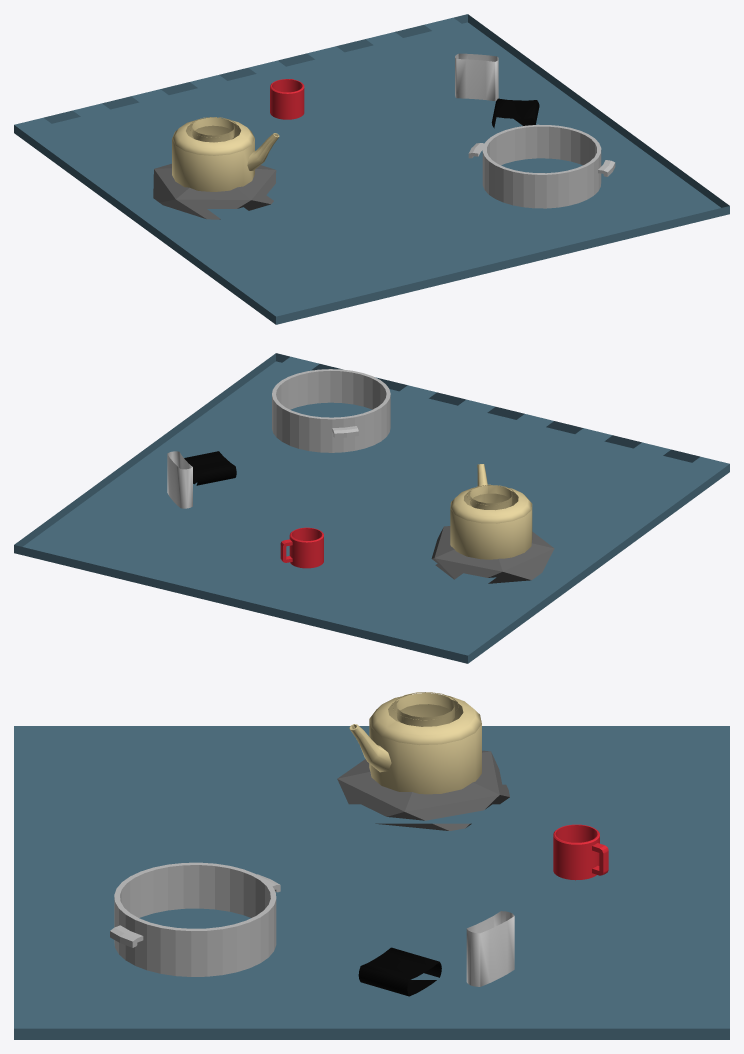
File: picnic_scene.glb
3 views of the same model, one above another, from view 1: azimuth 30°, elevation 25°; view 2: azimuth 150°, elevation 25°; view 3: azimuth 270°, elevation 25° (orthographic). The views are drawn at different scales.
Visible parts, largest first — view 1: Object_26, Object_37, Object_52, Object_108, Object_50, Object_29, Object_44; view 2: Object_26, Object_37, Object_52, Object_108, Object_29, Object_50, Object_44; view 3: Object_26, Object_37, Object_52, Object_108, Object_50, Object_29, Object_44.
Boxes of the visible parts, box(x1,y1,x2,y2) form: Object_26: box(14, 14, 729, 324); Object_37: box(468, 124, 615, 208); Object_52: box(172, 117, 279, 191); Object_108: box(153, 163, 276, 219); Object_50: box(455, 53, 498, 100); Object_29: box(270, 79, 304, 119); Object_44: box(491, 98, 539, 128); Object_26: box(14, 353, 729, 663); Object_37: box(272, 369, 390, 452); Object_52: box(450, 464, 532, 559); Object_108: box(431, 526, 554, 583); Object_29: box(280, 527, 323, 568); Object_50: box(167, 451, 192, 508); Object_44: box(184, 451, 236, 485); Object_26: box(14, 726, 729, 1039); Object_37: box(110, 862, 280, 976); Object_52: box(349, 692, 481, 794); Object_108: box(337, 750, 509, 830); Object_50: box(466, 911, 514, 986); Object_29: box(553, 824, 608, 880); Object_44: box(358, 947, 441, 996).
Size of the model in its own units: 2.53 by 0.4469 by 2.53.
